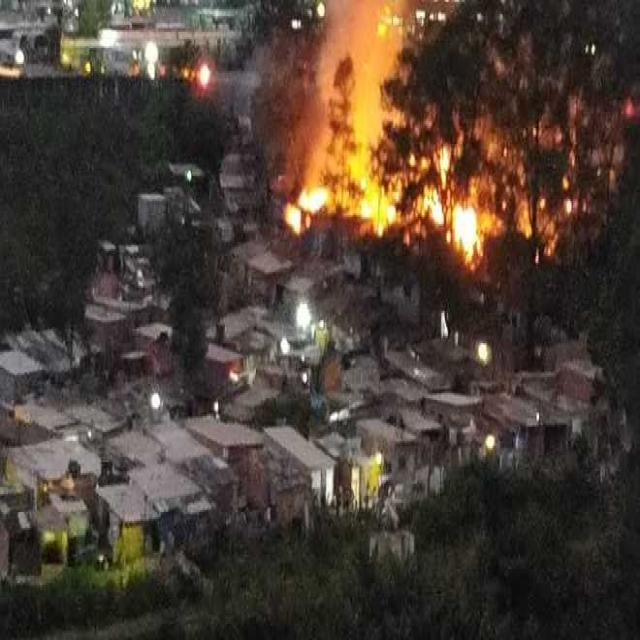Fire: (264, 119, 554, 279)
Smoke: (311, 2, 507, 180)
